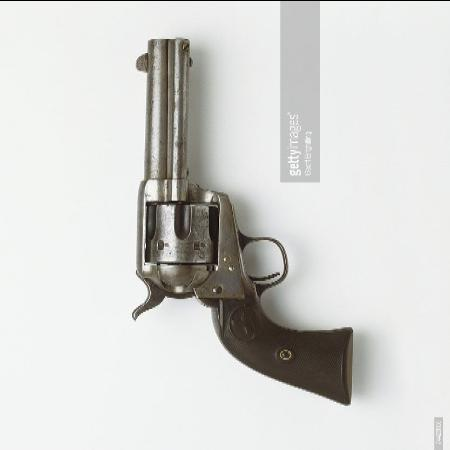Pistol: (127, 37, 352, 398)
